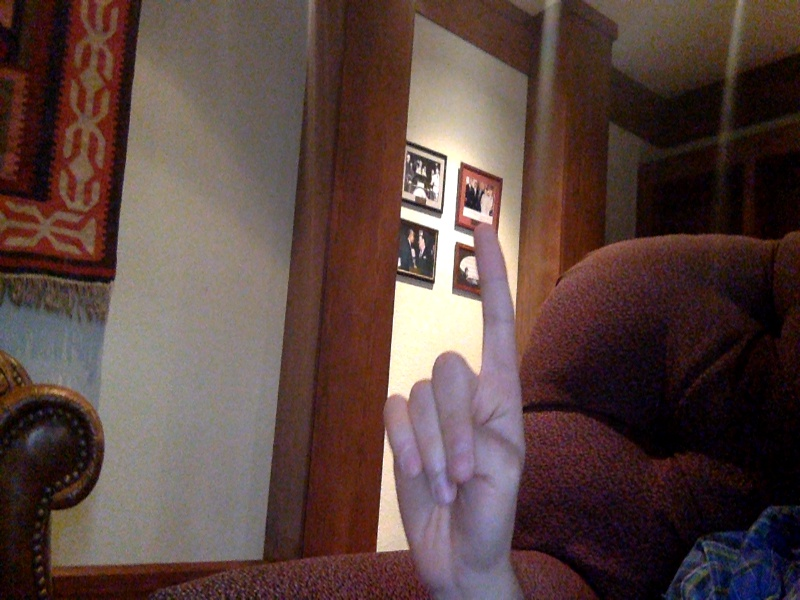1-hand: (382, 220, 524, 575)
